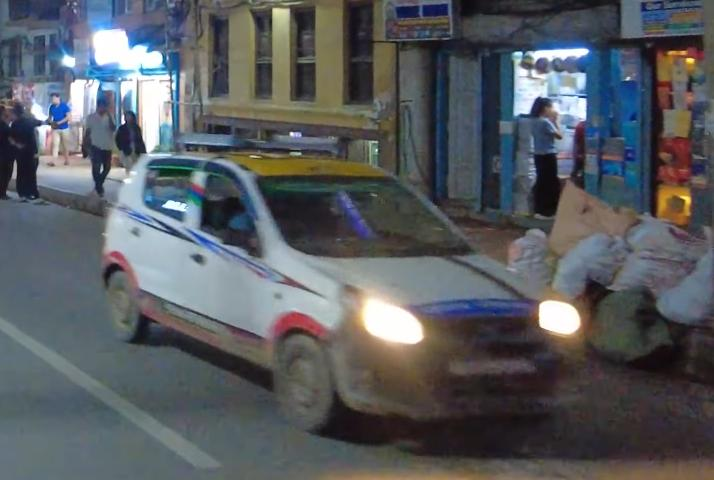taxi: (95, 126, 591, 433)
